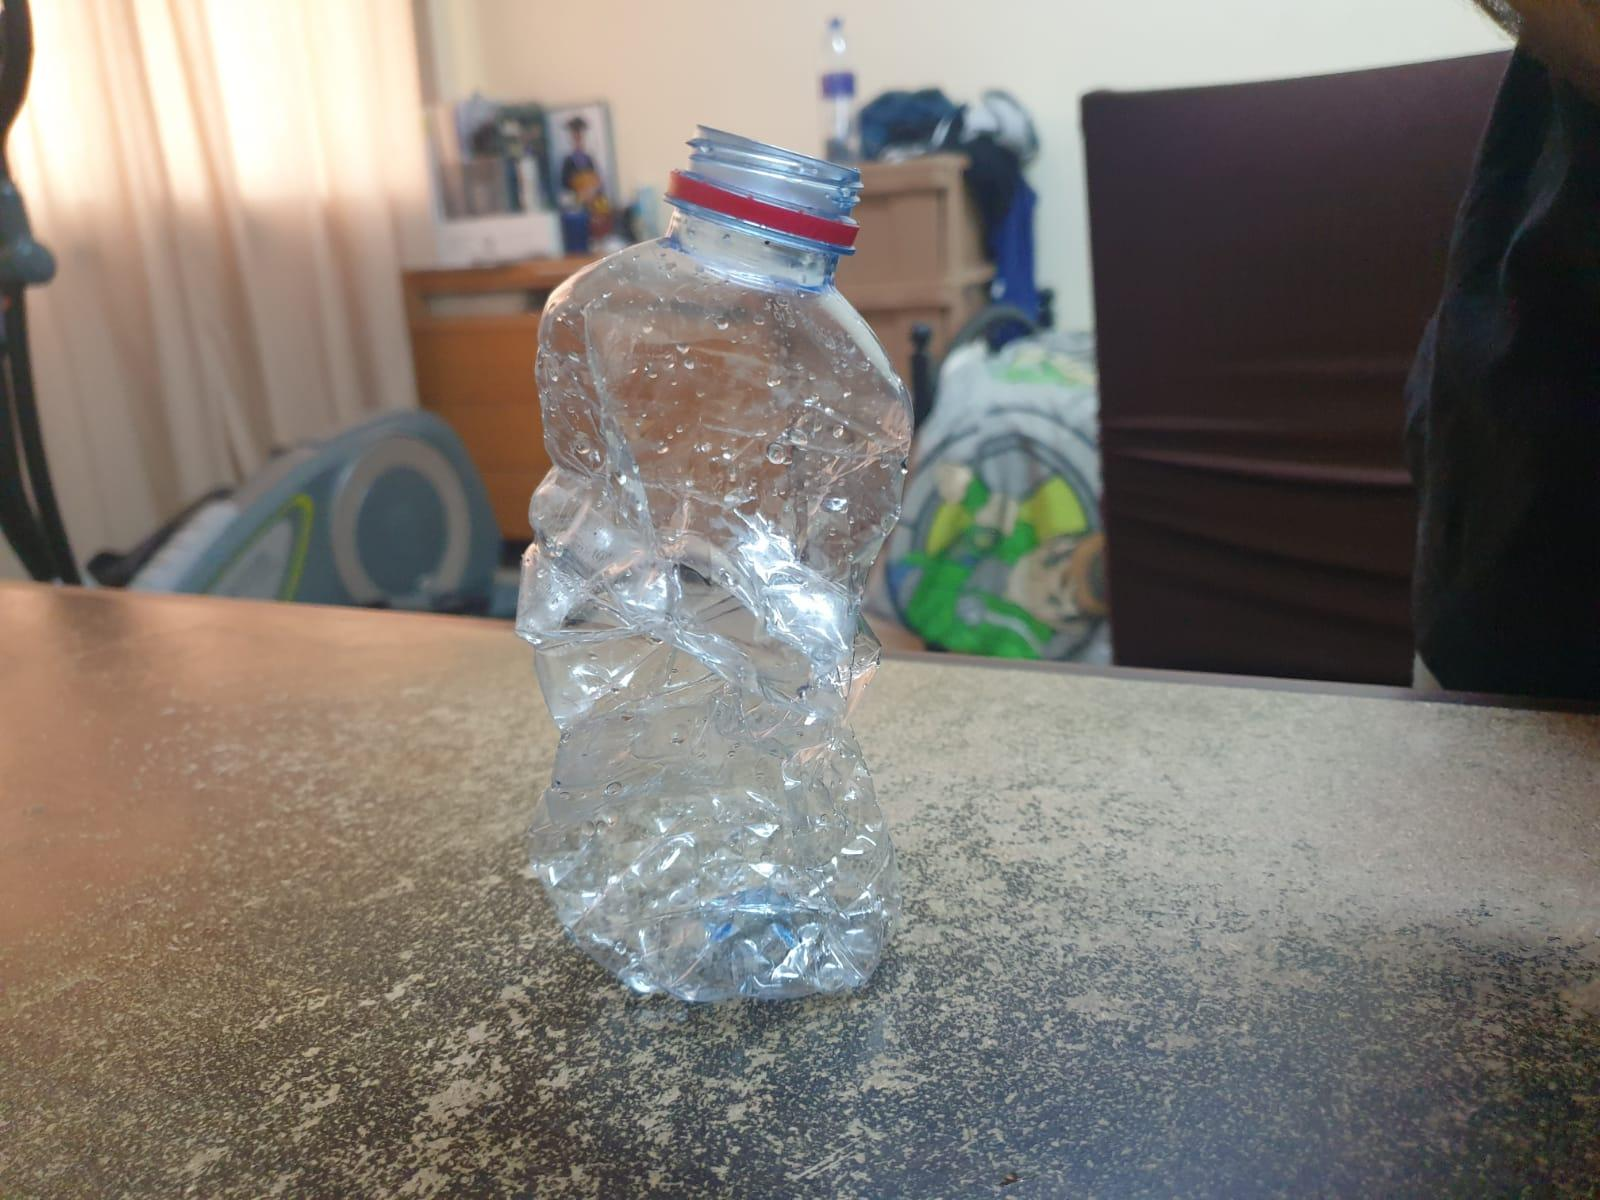bottle: (523, 141, 906, 1011)
